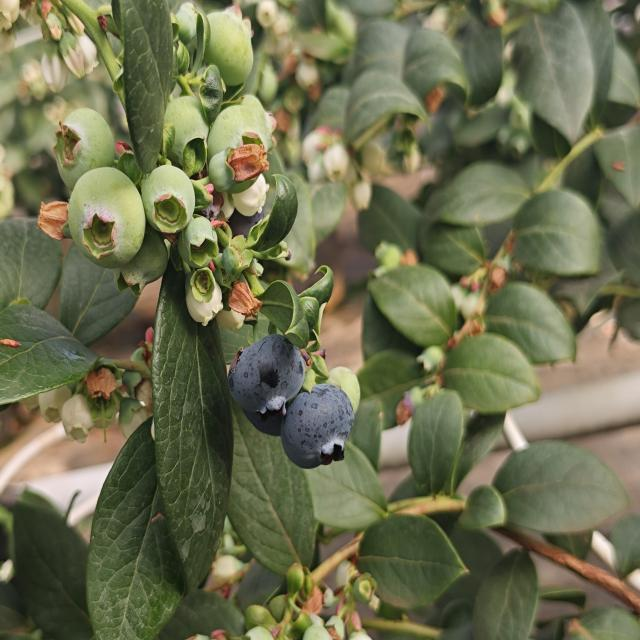ripe: (226, 331, 307, 420), (278, 381, 356, 472)
